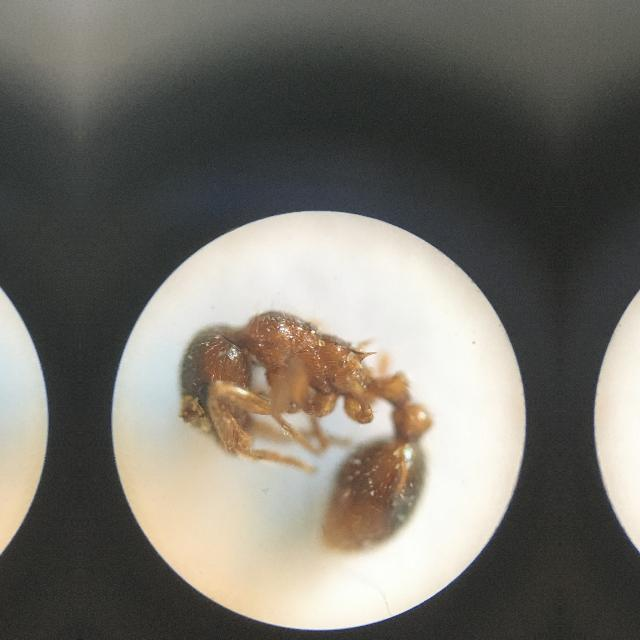Myrmica: (163, 276, 454, 548)
